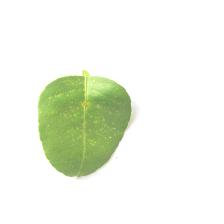greening: (32, 69, 135, 182)
